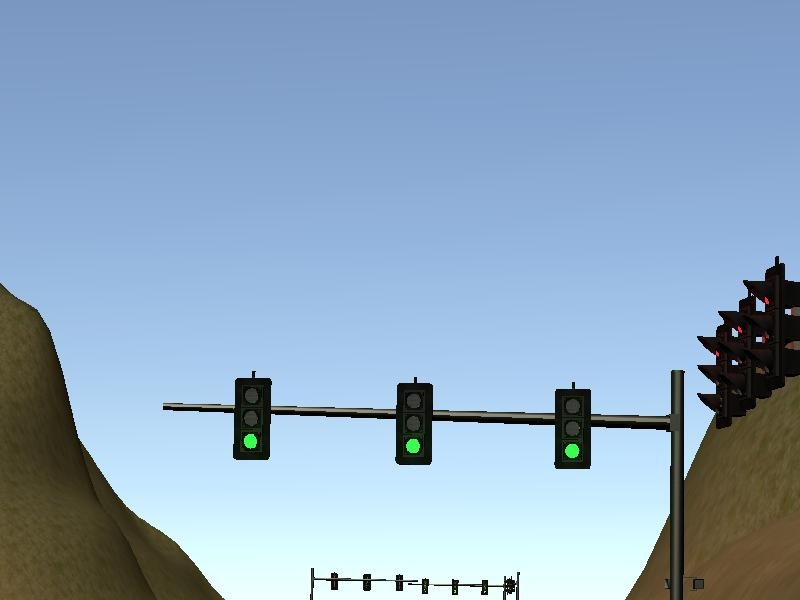green: (230, 369, 273, 466), (553, 381, 593, 477), (394, 376, 431, 471)
